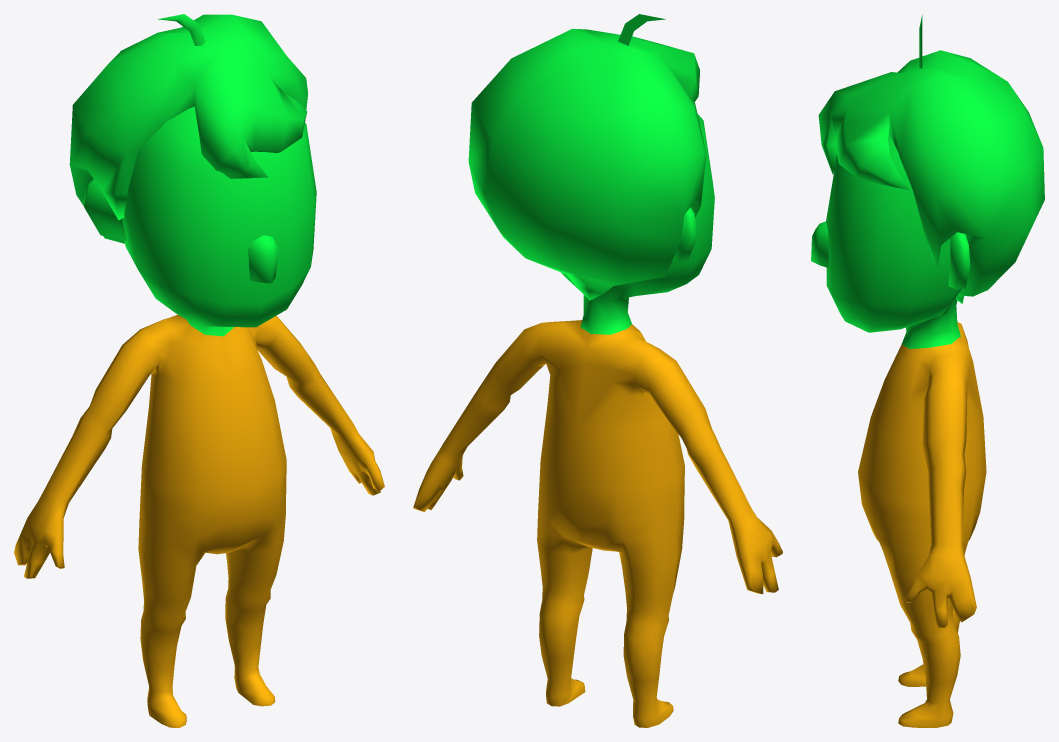
The model's file is common_people_male_1.gltf.
The picture shows the model from 3 angles, left to right: view 1: azimuth 30°, elevation 25°; view 2: azimuth 150°, elevation 25°; view 3: azimuth 270°, elevation 25°; orthographic projection. The views are drawn at different scales.
Parts seen in each view (by area): view 1: common_people_male_1; view 2: common_people_male_1; view 3: common_people_male_1.
Boxes of the visible parts, box(x1,y1,x2,y2) form: common_people_male_1: box(14, 14, 384, 727); common_people_male_1: box(413, 14, 782, 727); common_people_male_1: box(811, 15, 1044, 727).
Bounding box in the file's own units: 57.12 × 108 × 34.64.
